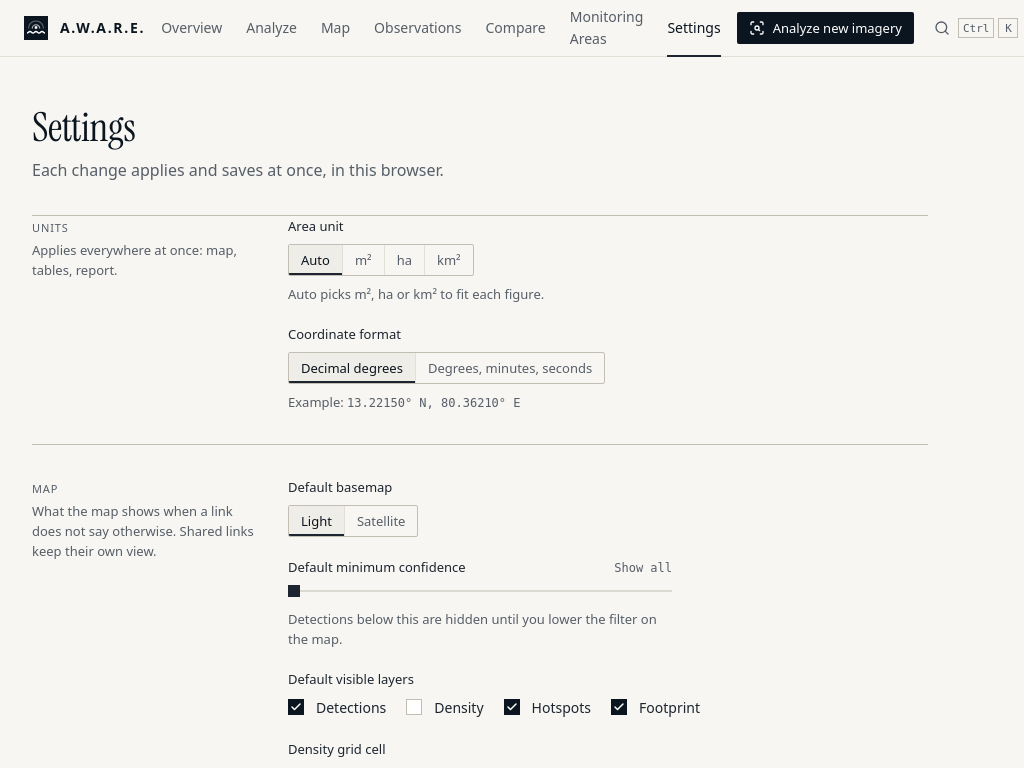
Test: command palette › opens from the top bar hint too
Expected: the heading "Settings" is shown, 32,101 -> 135,153
What coordinates should you click on to do the following:
click the button with aria-label "Open the command palette"
I would click on:
 (975, 28)
Its box is 926,12 -> 1023,44.
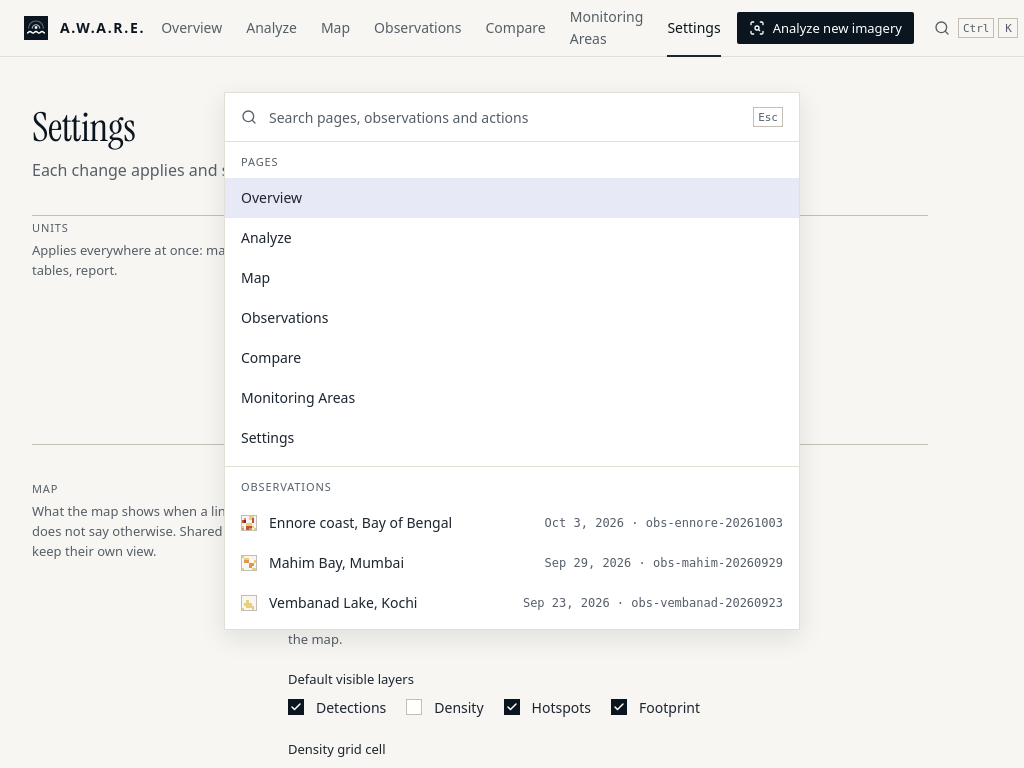
Expected: the dialog named "Command palette" is shown, 224,92 -> 800,630
